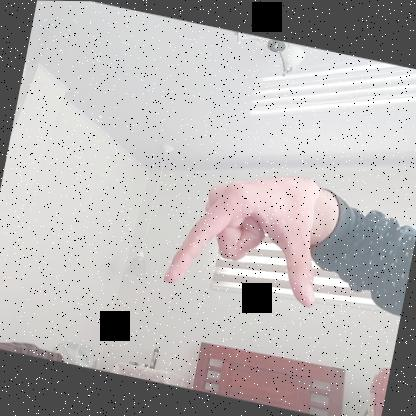Q: (160, 154, 336, 314)
